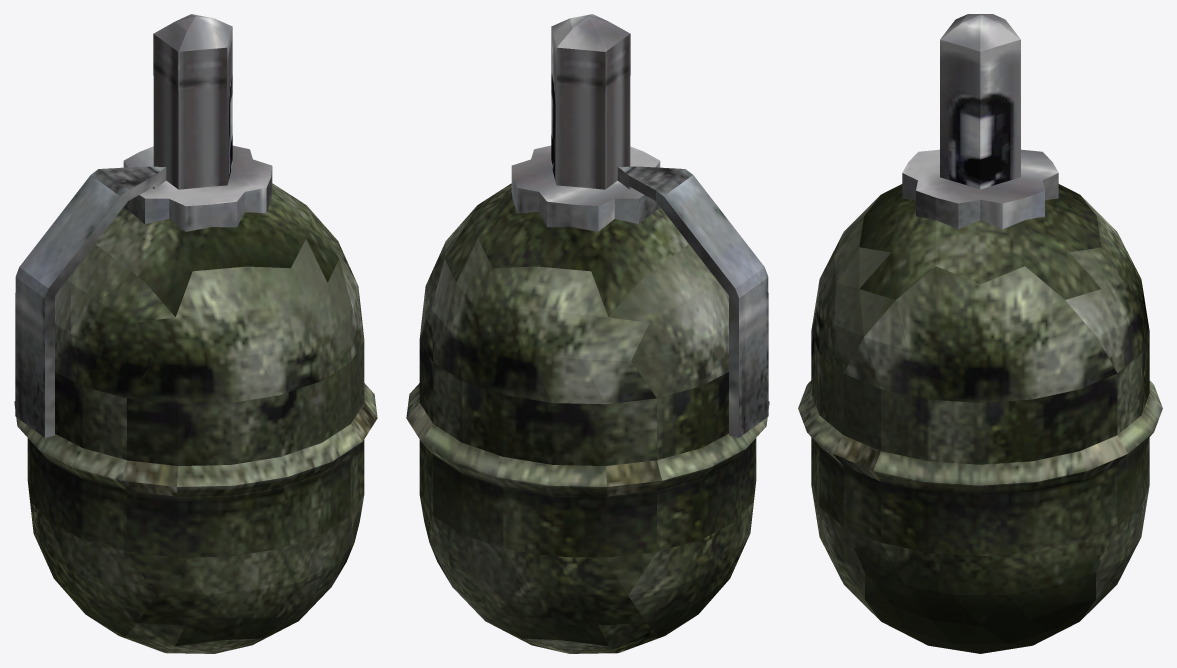
Rendered from w_rgd5.obj.
3 renders of one model, left to right at view 1: azimuth 30°, elevation 25°; view 2: azimuth 150°, elevation 25°; view 3: azimuth 270°, elevation 25°, orthographic.
Visible parts, largest first — view 1: Icosphere; view 2: Icosphere; view 3: Icosphere.
Part boxes in pixels (box(x1,y1,x2,y2)): Icosphere: box(14, 14, 377, 653); Icosphere: box(406, 14, 769, 653); Icosphere: box(798, 14, 1162, 653).
Size of the model in its own units: 2.21 by 4.06 by 2.16.
